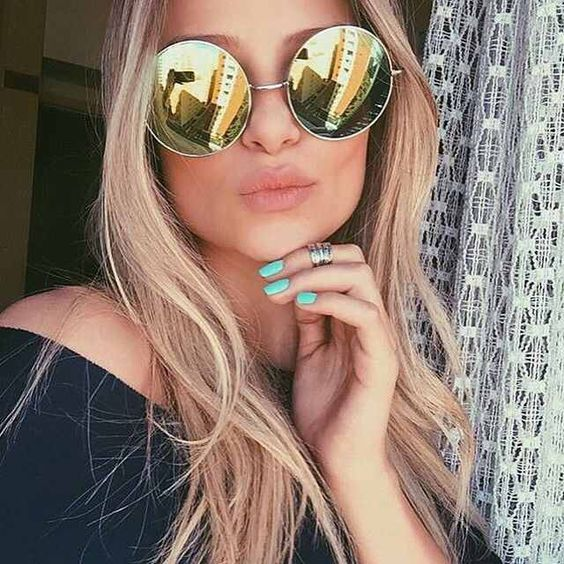sunglasses: (142, 28, 376, 146), (142, 28, 386, 134), (142, 48, 386, 146)
